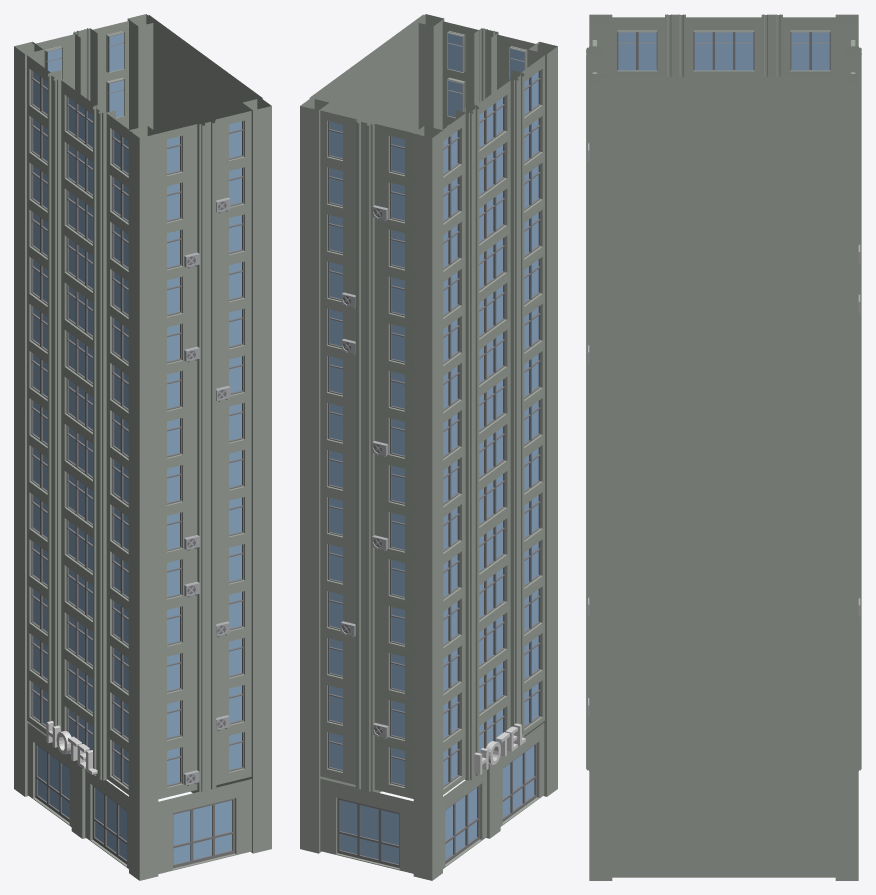
Rendered from cityscene2_21.gltf.
3 views of the same model, side by side, from view 1: azimuth 30°, elevation 25°; view 2: azimuth 150°, elevation 25°; view 3: azimuth 270°, elevation 25° (orthographic). The views are drawn at different scales.
Visible parts, largest first — view 1: cityscene2_21; view 2: cityscene2_21; view 3: cityscene2_21.
Boxes of the visible parts, x1,y1,x2,y2 form: cityscene2_21: (14,14,271,880); cityscene2_21: (300,14,557,880); cityscene2_21: (586,14,861,880).
Bounding box in the file's own units: 4.15 × 21.19 × 6.58.
